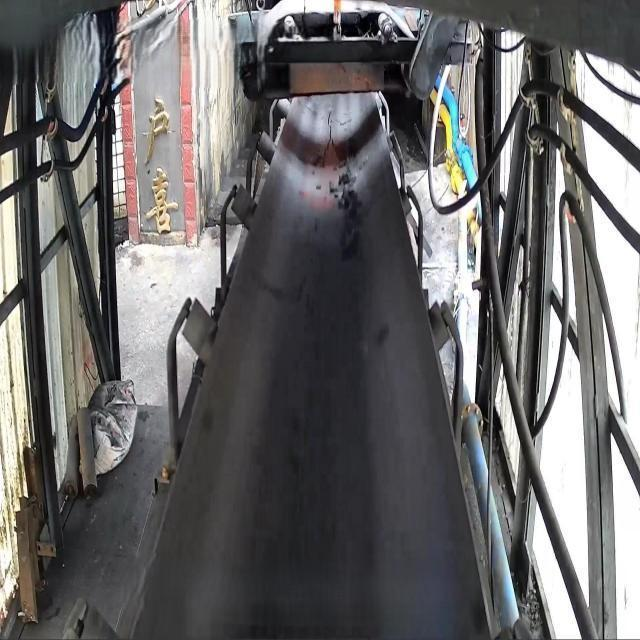Tear: (299, 104, 357, 184)
